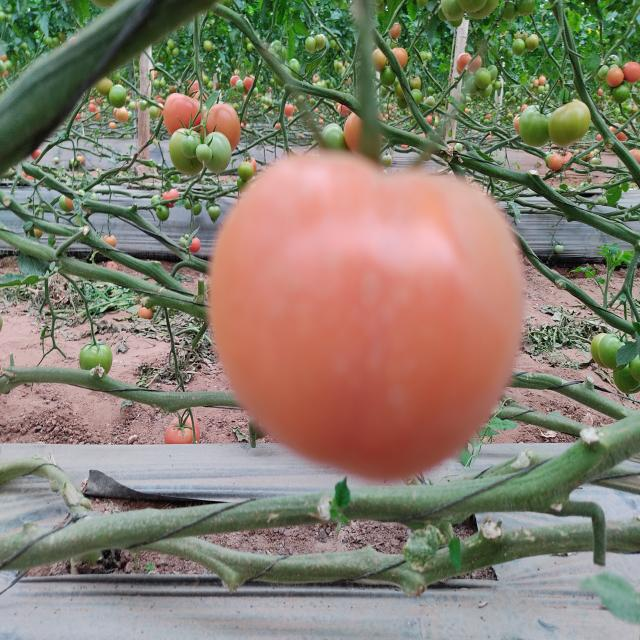Ripe Tomato: (204, 137, 531, 480), (162, 412, 200, 441)
Unripe Tomato: (166, 128, 206, 176), (546, 102, 592, 142), (77, 341, 114, 378)
